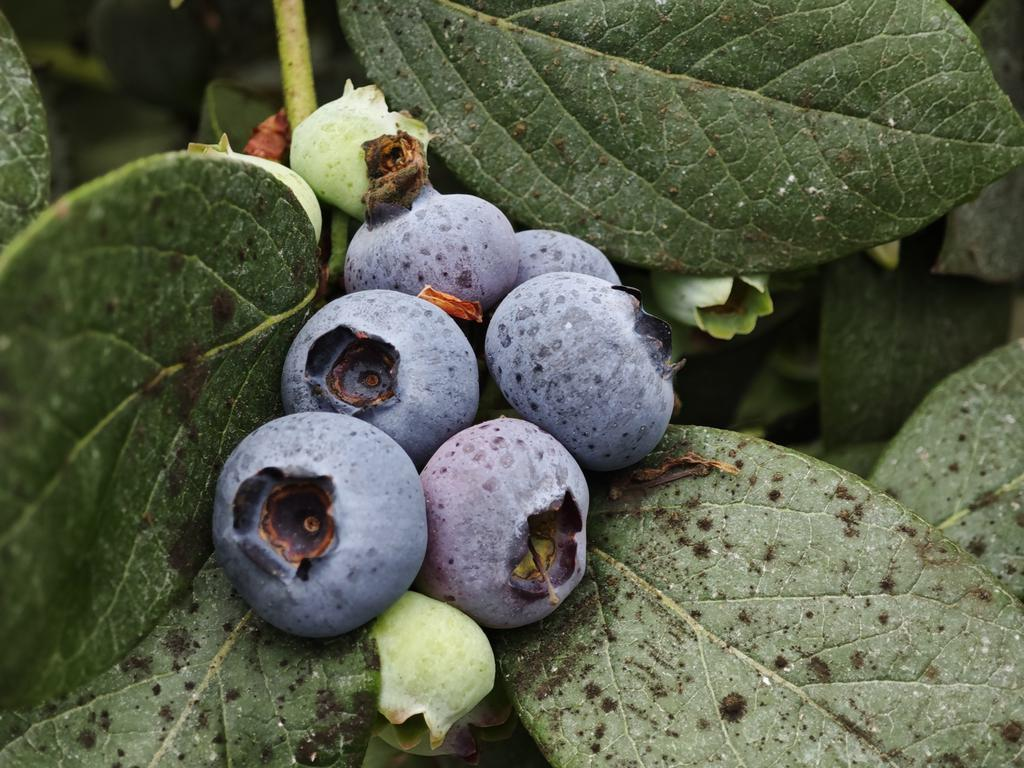RipeBlueBerry: (213, 411, 426, 633), (489, 276, 678, 464), (426, 427, 591, 616), (288, 287, 476, 446)
